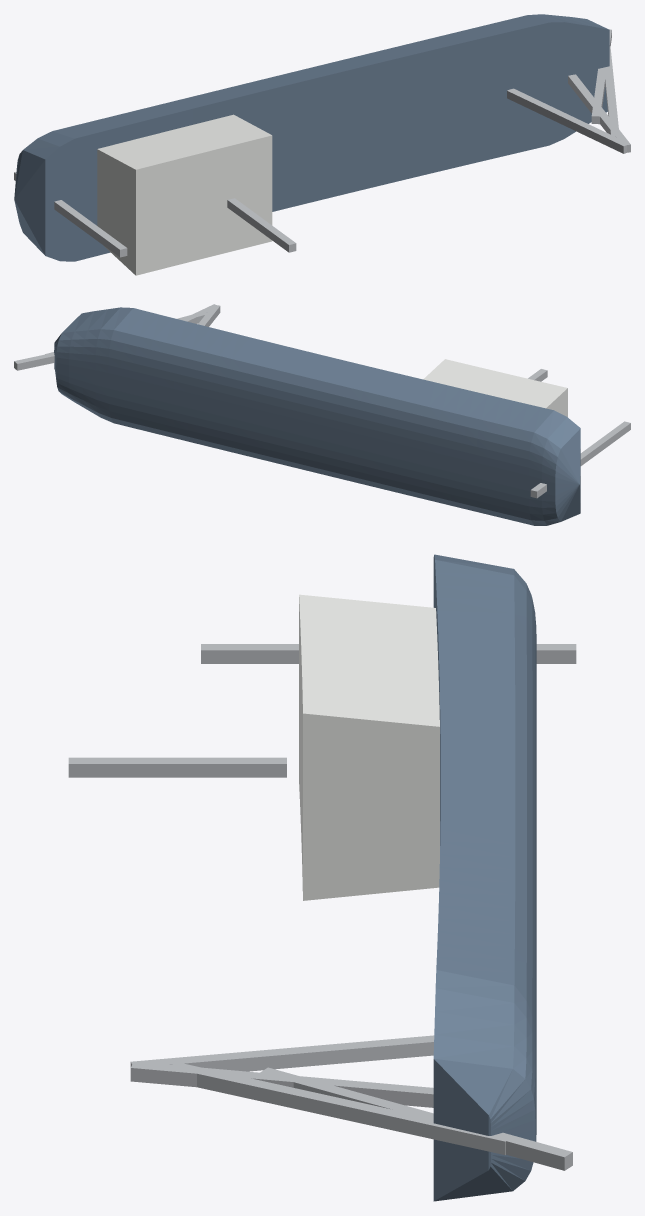
File: loft-dredger-slender.glb
3 renders of one model, top to bottom at view 1: azimuth 30°, elevation 25°; view 2: azimuth 150°, elevation 25°; view 3: azimuth 270°, elevation 25°, orthographic. The views are drawn at different scales.
Parts seen in each view (by area): view 1: loft-dredger-slender; view 2: loft-dredger-slender; view 3: loft-dredger-slender.
Boxes of the visible parts, left/top/right/bottom form: loft-dredger-slender: left=14, top=14, right=630, bottom=275; loft-dredger-slender: left=14, top=304, right=630, bottom=525; loft-dredger-slender: left=68, top=554, right=576, bottom=1201.
Size of the model in its own units: 2.02 by 0.384 by 0.8112.
